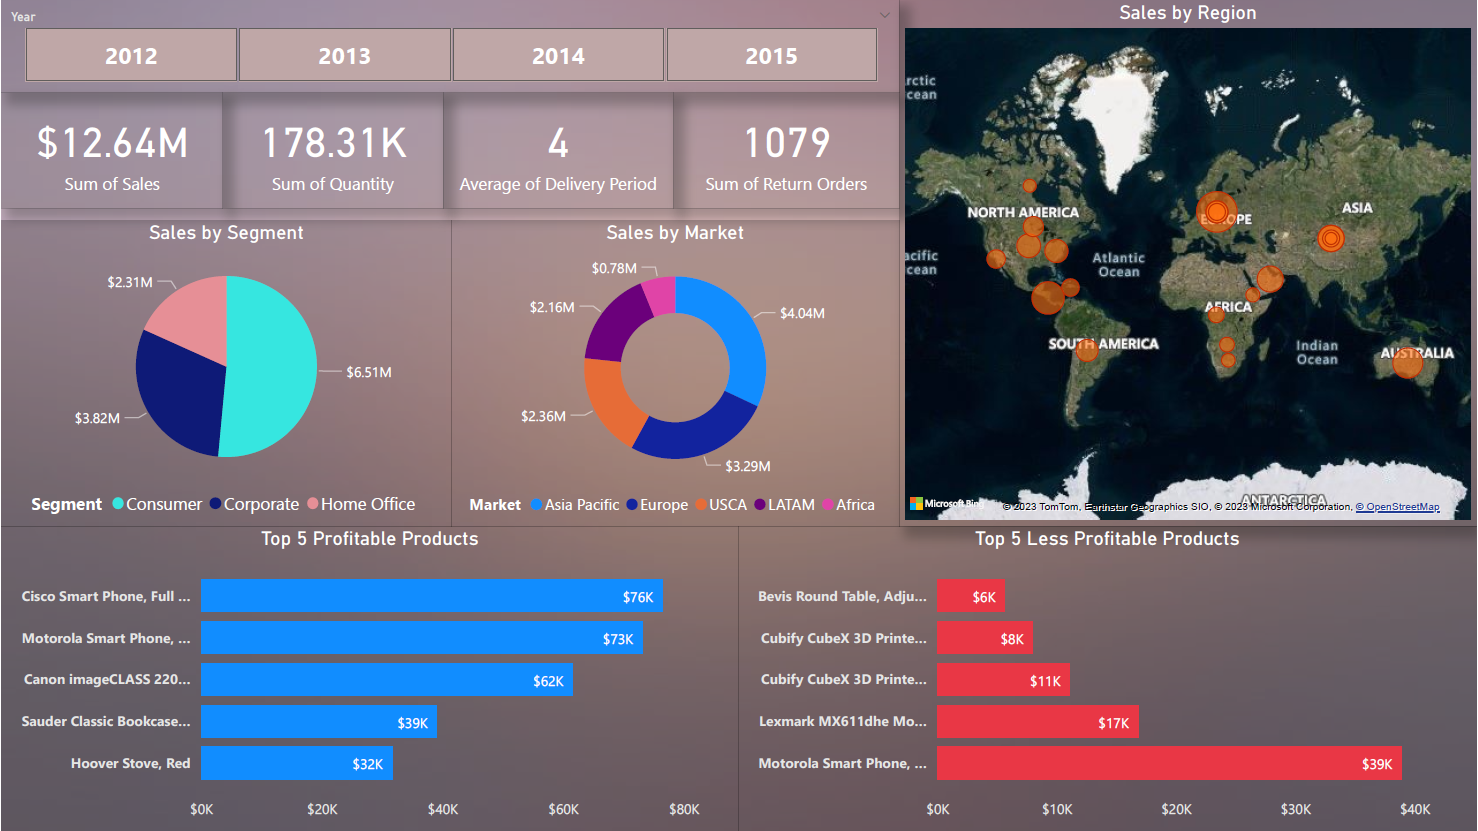

Layout of this report page (visuals, bound fields, positions):
{"tool":"powerbi","page":{"name":"Global Superstore Data","canvas":[1280,720],"ordinal":0},"visuals":[{"type":"card","fields":{"Values":["Sum(Orders.Sales)"]},"box":[0,79.6,192.1,100.2],"z":0},{"type":"card","fields":{"Values":["Sum(Orders.Quantity)"]},"box":[192.1,79.6,190.7,100.2],"z":1000},{"type":"card","fields":{"Values":["Avg(Orders.Delivery Period)"]},"box":[382.8,79.6,200.3,100.2],"z":2000},{"type":"slicer","fields":{"Values":["Orders.Year"]},"box":[0,0,779.4,79.6],"z":3000},{"type":"card","fields":{"Values":["Sum(Returns.Return Orders)"]},"box":[583.2,79.6,196.2,100.2],"z":4000},{"type":"map","title":"Sales by Region","fields":{"Category":["Orders.Region"],"Size":["Sum(Orders.Sales)"]},"box":[779.4,0,500.9,455.6],"z":5000},{"type":"clusteredBarChart","title":"Top 5 Profitable Products","fields":{"Category":["Orders.Product Name"],"Y":["Sum(Orders.Sales)"]},"box":[0,455.6,639.5,264.8],"z":6000},{"type":"clusteredBarChart","title":"Top 5 Less Profitable Products","fields":{"Category":["Orders.Product Name"],"Y":["Sum(Orders.Sales)"]},"box":[639.5,455.6,640.8,264.8],"z":7000},{"type":"pieChart","title":"Sales by Segment","fields":{"Category":["Orders.Segment"],"Y":["Sum(Orders.Sales)"]},"box":[0,190.7,389.7,264.8],"z":8000},{"type":"donutChart","title":"Sales by Market","fields":{"Category":["Orders.Market"],"Y":["Sum(Orders.Sales)"]},"box":[389.7,190.7,389.7,264.8],"z":9000}]}

Visuals, with their boxes in screenshot pixels (x1, y1, x2, y2), scaled from the page's 1280x720 canvas onto the 1478x831 screenshot:
card - Sum(Orders.Sales): {"x1": 0, "y1": 92, "x2": 222, "y2": 208}
card - Sum(Orders.Quantity): {"x1": 222, "y1": 92, "x2": 442, "y2": 208}
card - Avg(Orders.Delivery Period): {"x1": 442, "y1": 92, "x2": 673, "y2": 208}
slicer - Orders.Year: {"x1": 0, "y1": 0, "x2": 900, "y2": 92}
card - Sum(Returns.Return Orders): {"x1": 673, "y1": 92, "x2": 900, "y2": 208}
"Sales by Region" map: {"x1": 900, "y1": 0, "x2": 1477, "y2": 526}
"Top 5 Profitable Products" clusteredBarChart: {"x1": 0, "y1": 526, "x2": 738, "y2": 830}
"Top 5 Less Profitable Products" clusteredBarChart: {"x1": 738, "y1": 526, "x2": 1477, "y2": 830}
"Sales by Segment" pieChart: {"x1": 0, "y1": 220, "x2": 450, "y2": 526}
"Sales by Market" donutChart: {"x1": 450, "y1": 220, "x2": 900, "y2": 526}
